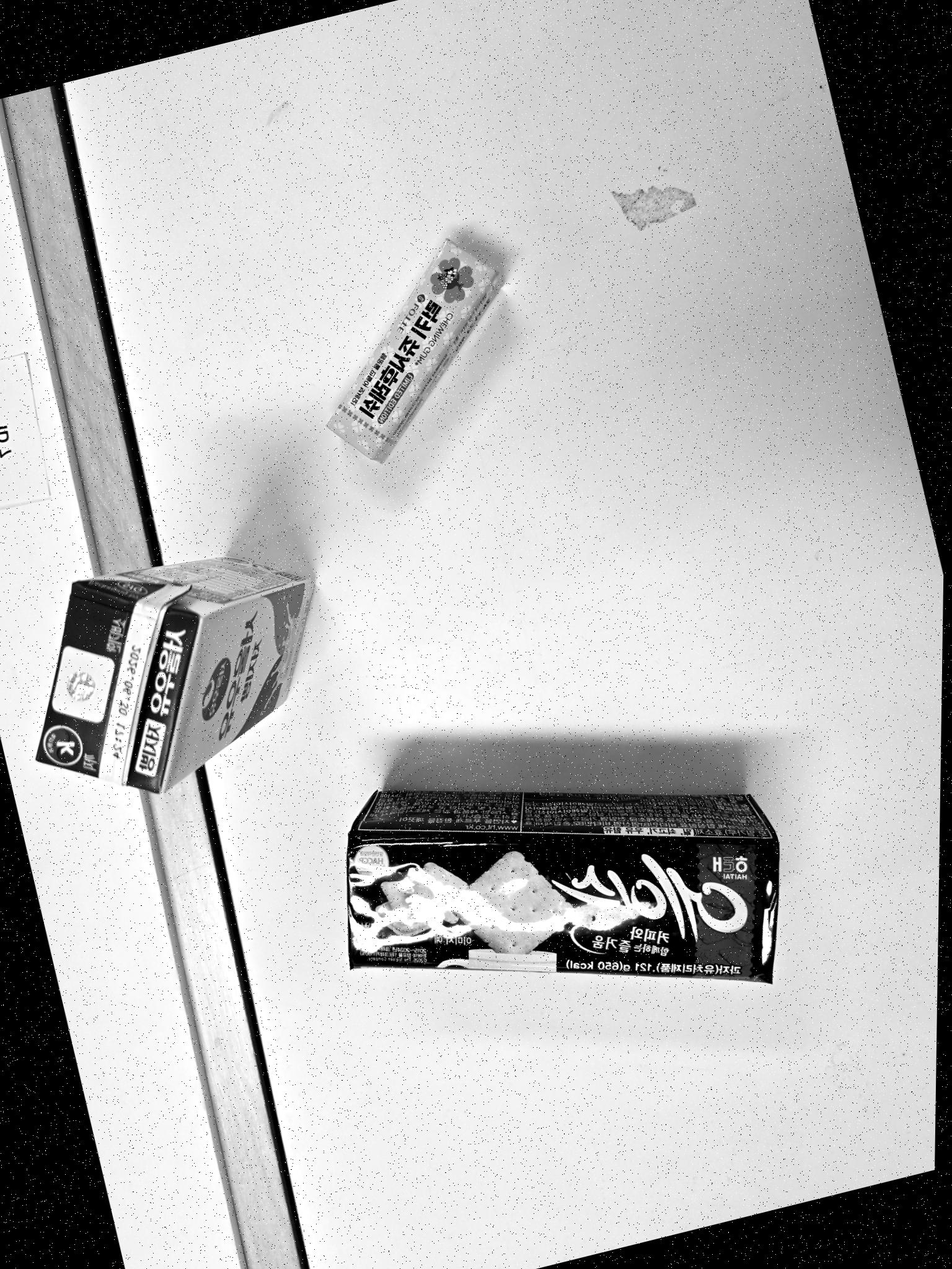cracker_ace: (347, 790, 779, 982)
gum_yellow: (327, 239, 502, 463)
milk_blue: (36, 557, 313, 793)
